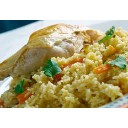briyani: (15, 30, 128, 103)
